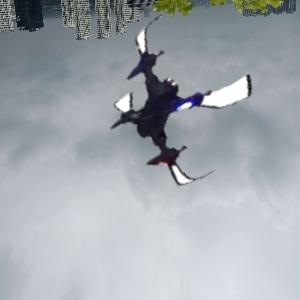drone: (94, 12, 269, 187)
